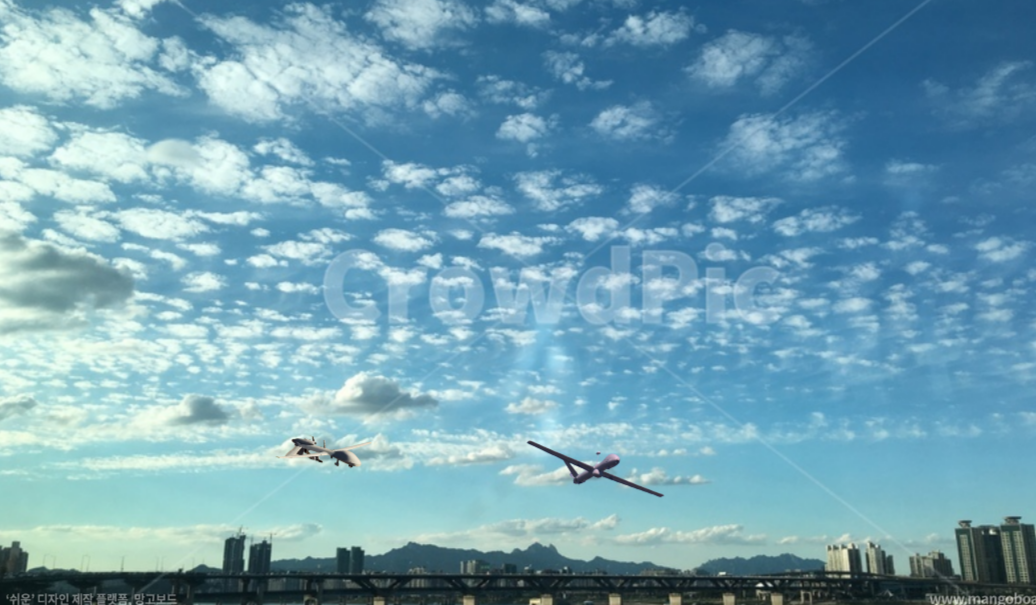military drone: (526, 439, 664, 497), (275, 436, 373, 468)
